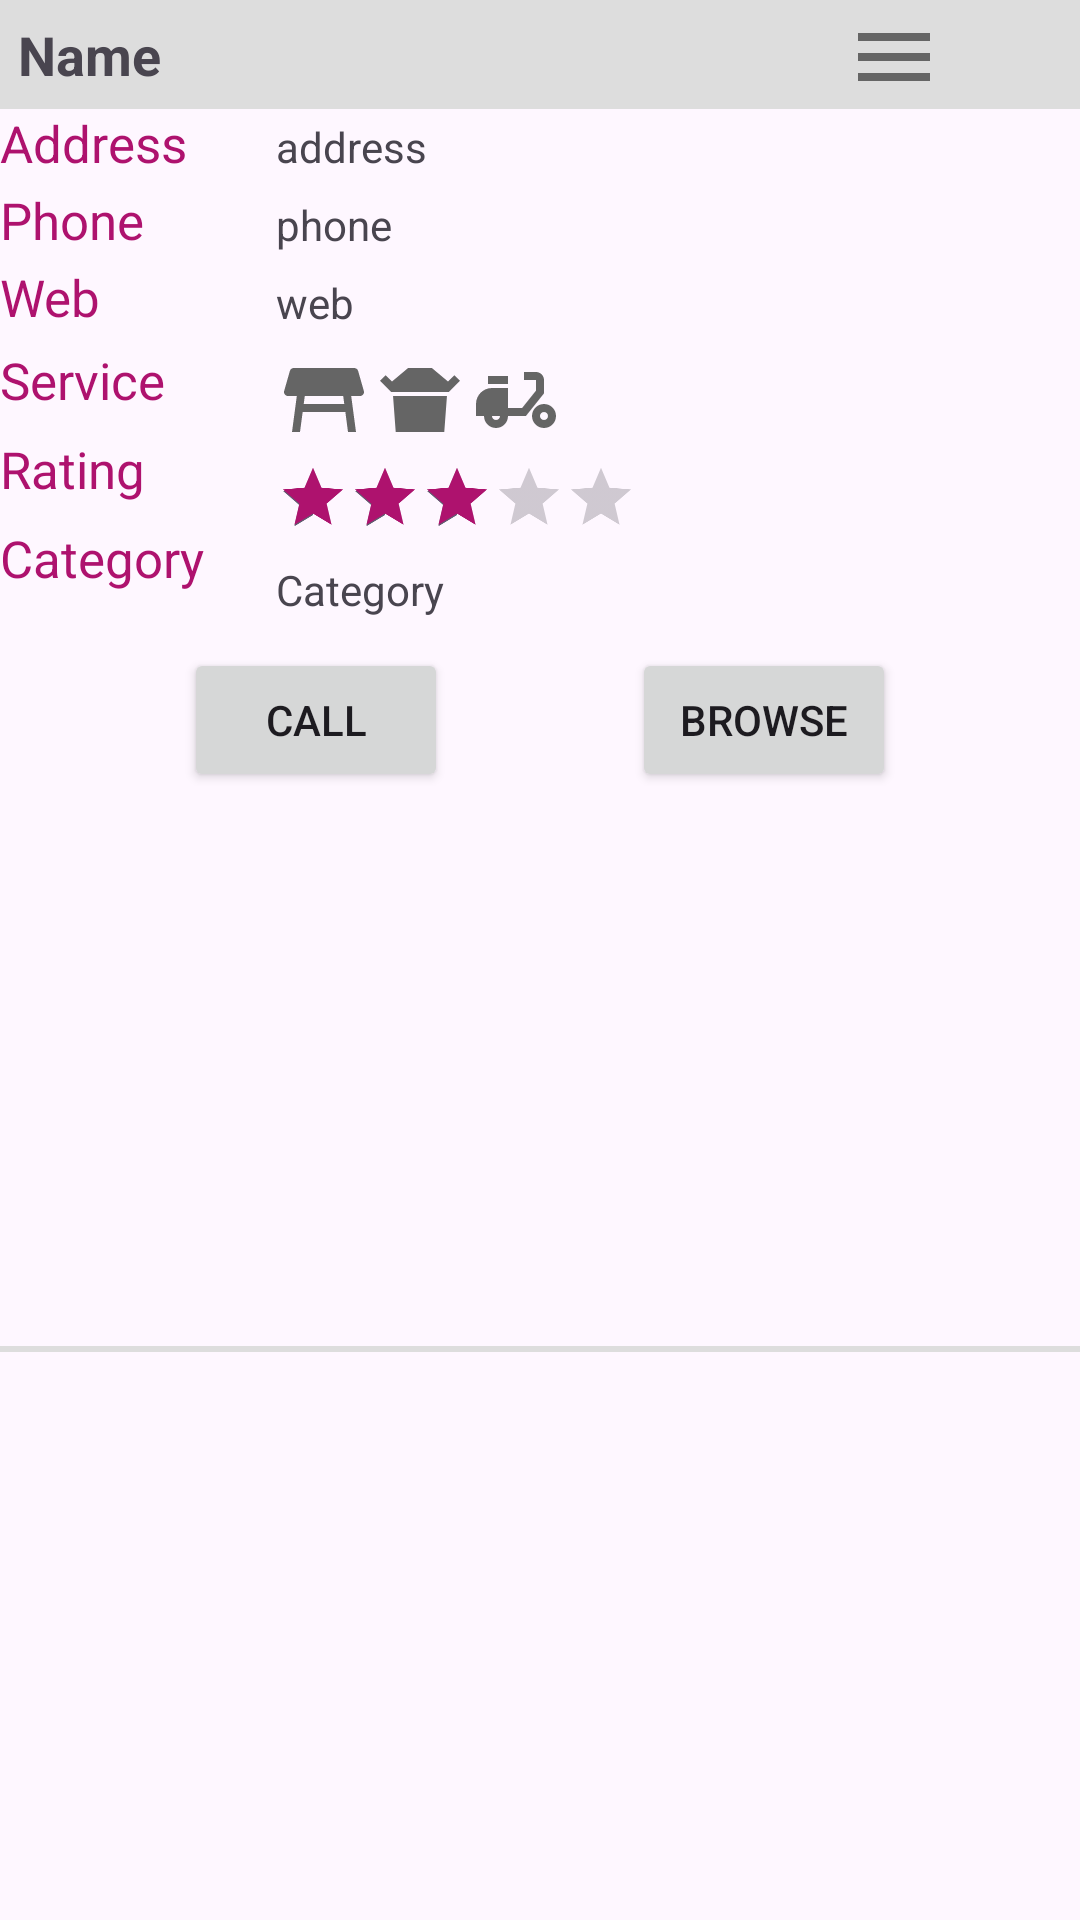

Locate icon controls on the screen. Image size 1080 x 1920, boxes as [x1=x1, y1=y1, x2=x2, y2=y2].
burger menu: [x1=858, y1=33, x2=930, y2=81]
delivery icon: [x1=476, y1=372, x2=556, y2=428]
onTable icon: [x1=284, y1=368, x2=364, y2=432]
takeAway icon: [x1=380, y1=368, x2=460, y2=432]
